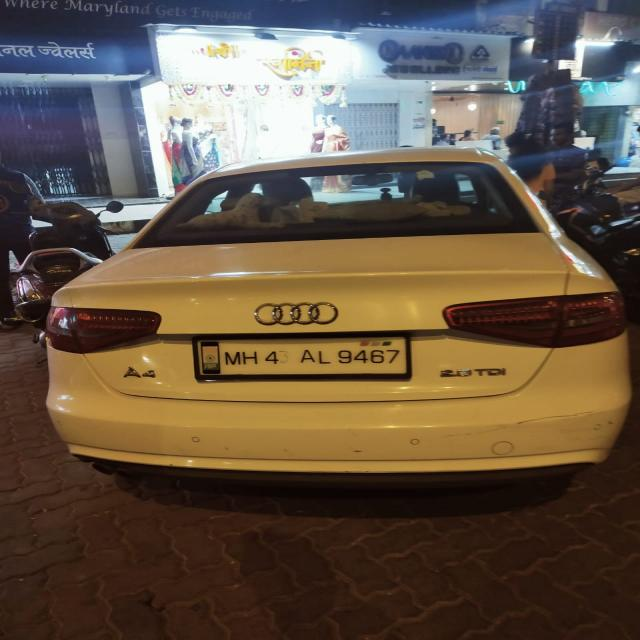Number-Plate: (195, 332, 406, 380)
